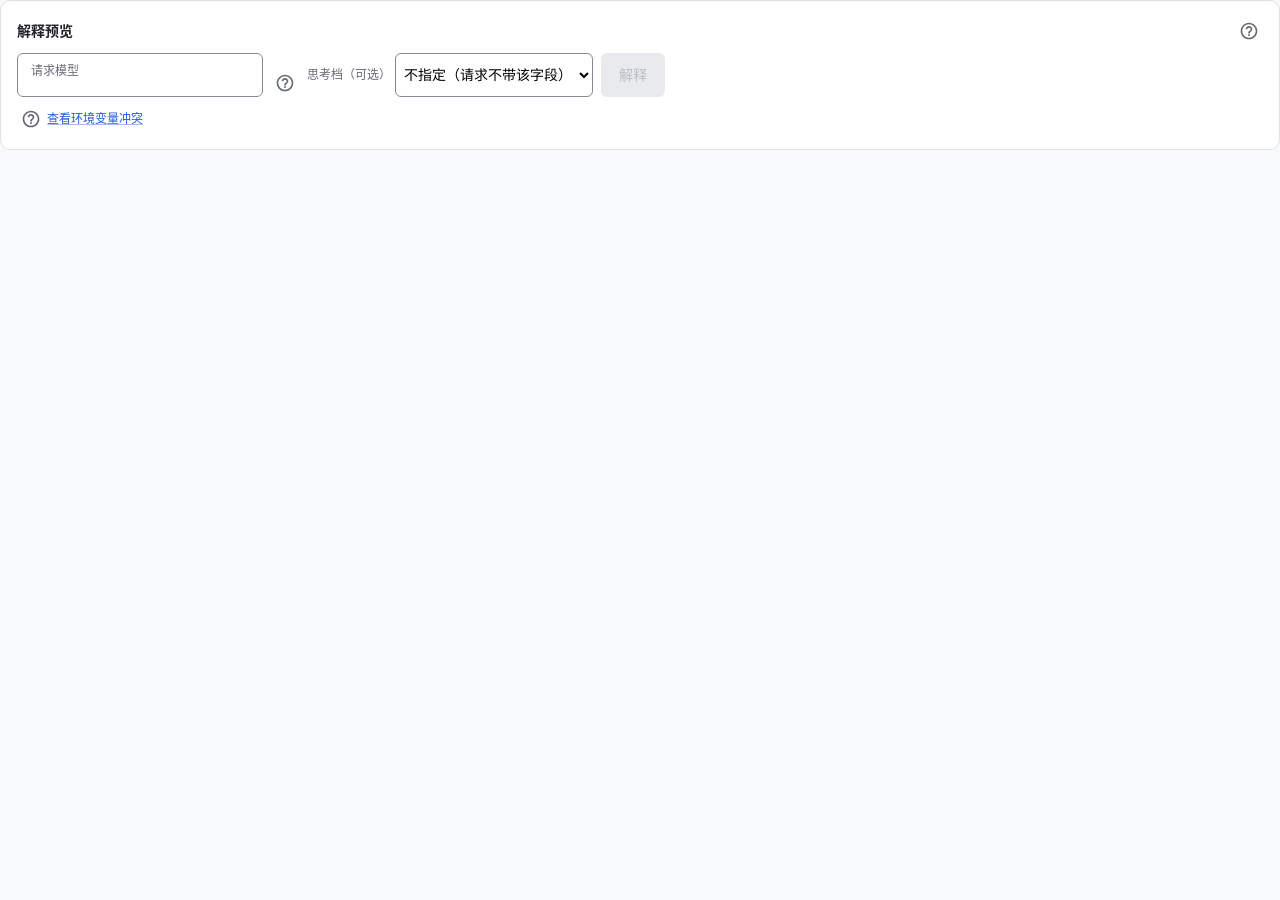
Test: RouteExplainPanel（UC-096） › 空表透传短句保留完整说明 title（UC-096 W5d）
Type "unregistered-model" into the field labelled "请求模型" at (140, 75), box x1=17 y1=56 x2=263 y2=94
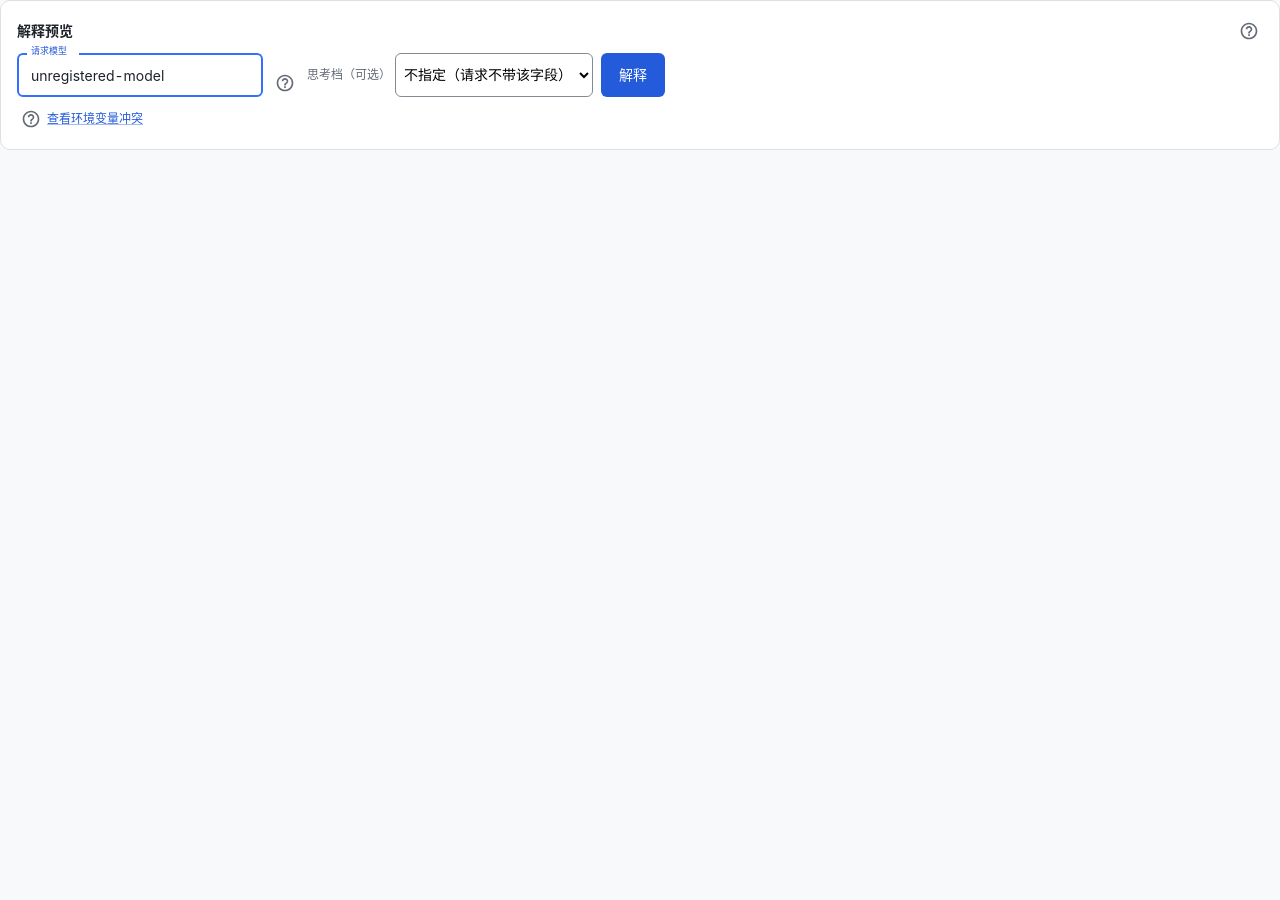
Click the button "解释" at (633, 75), box x1=601 y1=53 x2=665 y2=97
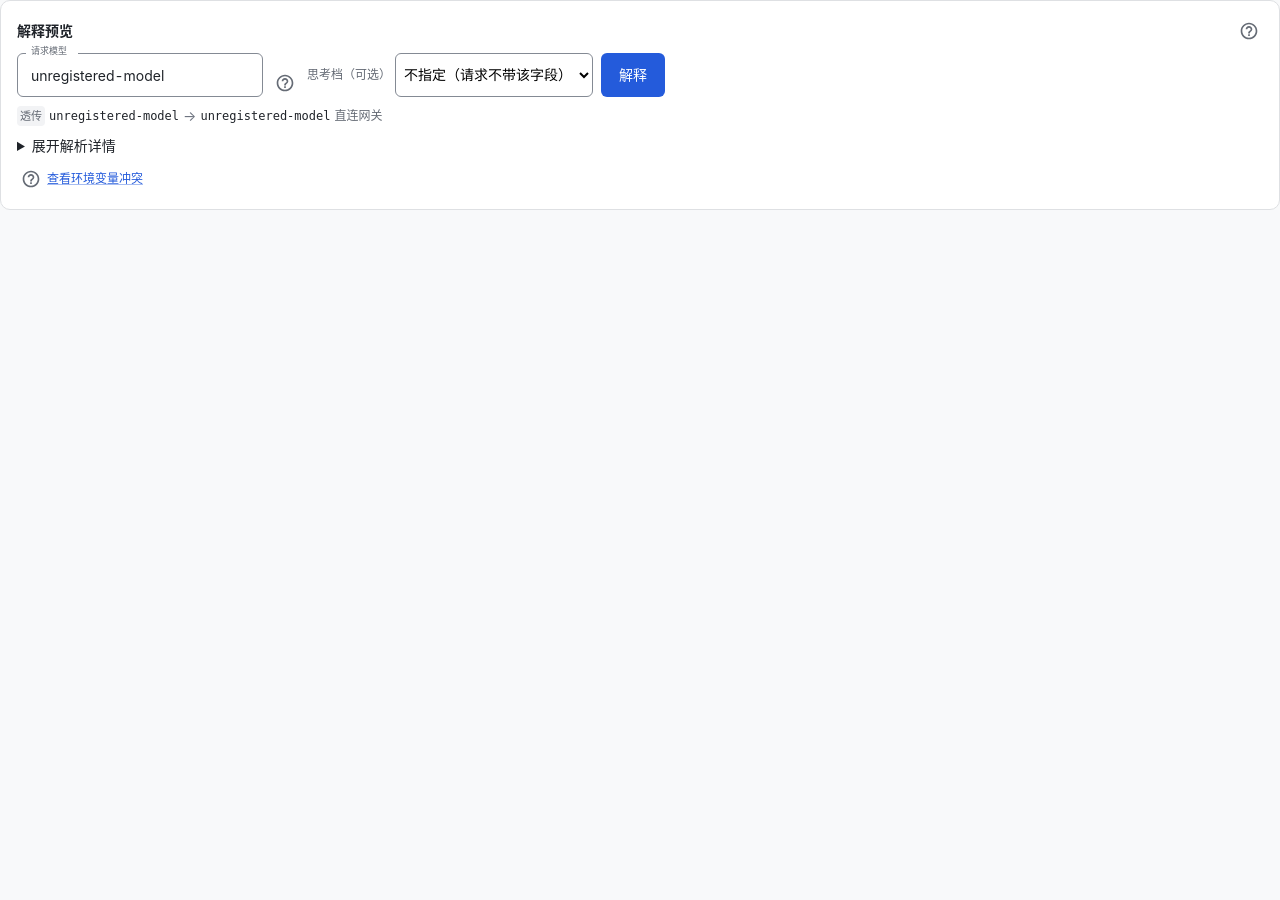
Click the heading "展开解析详情" at (74, 146), box x1=32 y1=137 x2=116 y2=154
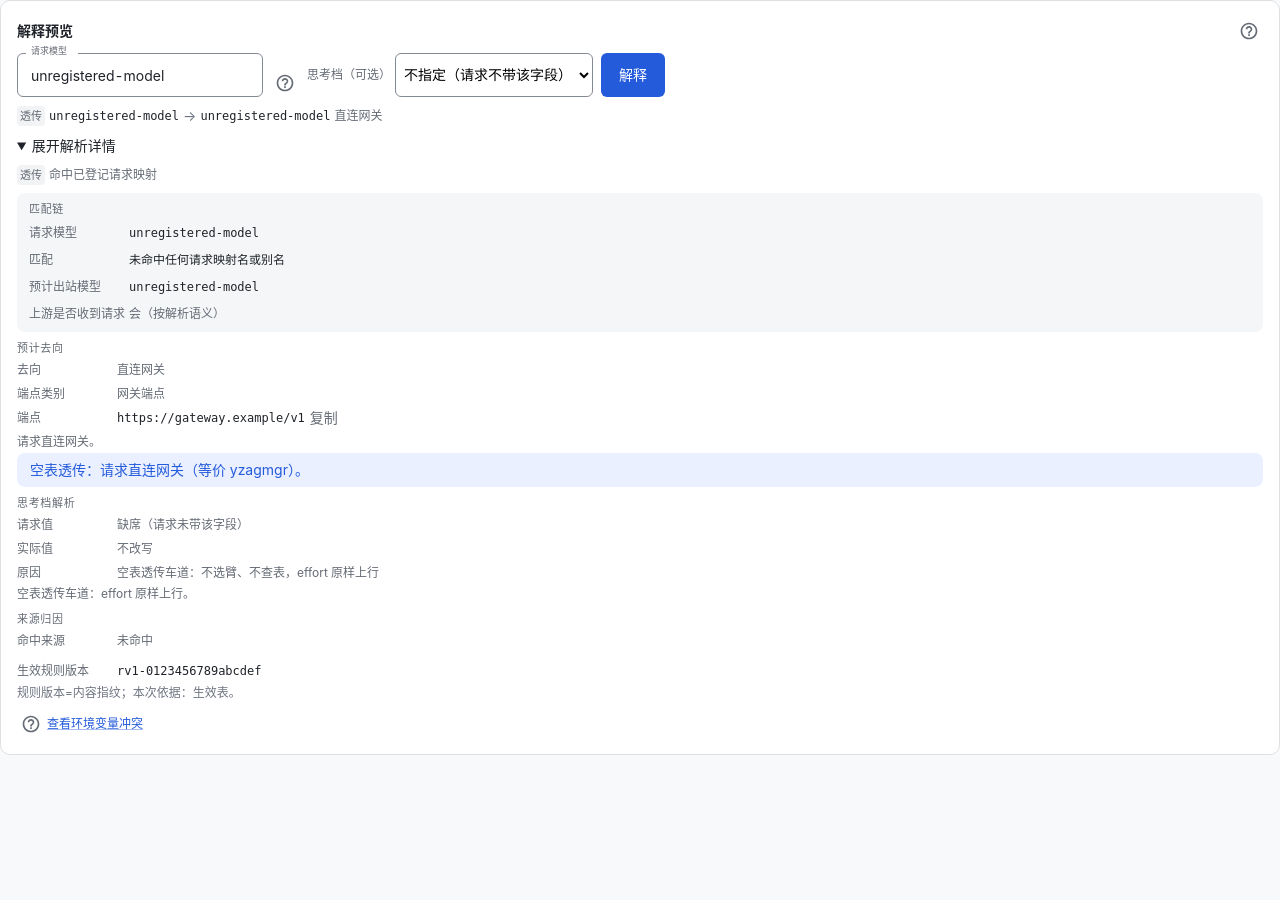
Now the text "空表透传：请求直连网关（等价 yzagmgr）。" is shown, box x1=30 y1=460 x2=309 y2=478
